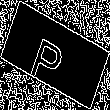P_NE: (34, 24, 76, 86)
